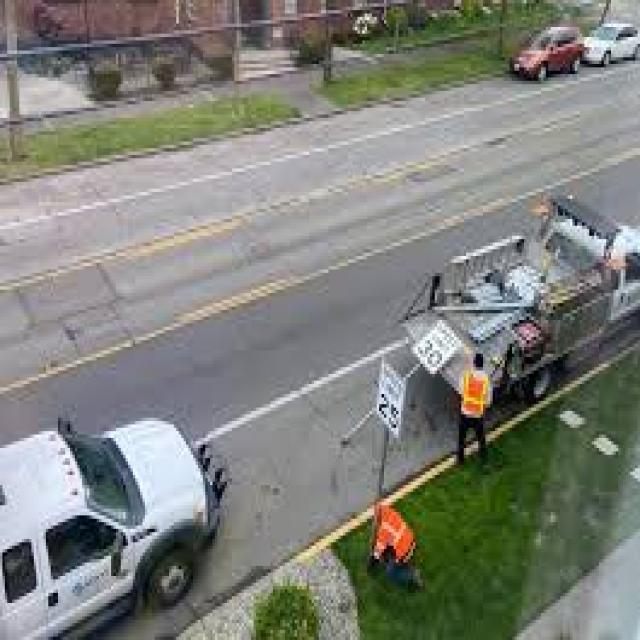speedLimit25: (377, 359, 401, 436)
speedLimit30: (413, 312, 461, 376)
